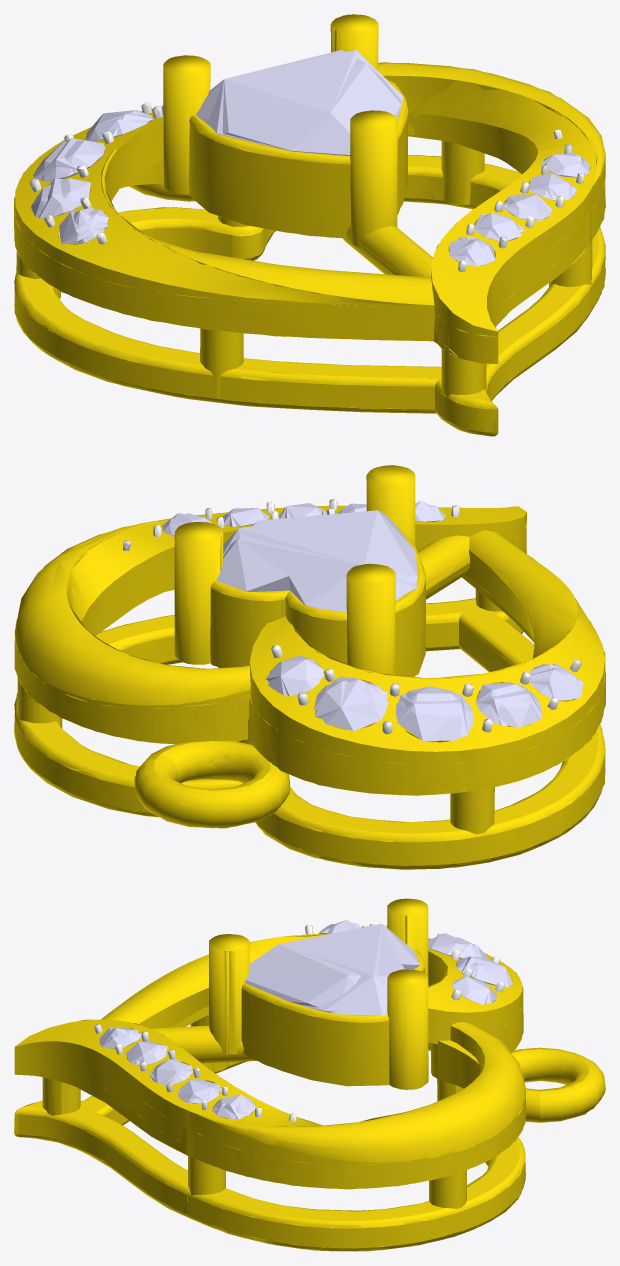
Rendered from DPN-D000612028.glb.
The picture shows the model from 3 angles, top to bottom: view 1: azimuth 30°, elevation 25°; view 2: azimuth 150°, elevation 25°; view 3: azimuth 270°, elevation 25°; orthographic projection. The views are drawn at different scales.
Visible parts, largest first — view 1: highPolyMesh, lowPolyMesh; view 2: highPolyMesh, lowPolyMesh; view 3: highPolyMesh, lowPolyMesh.
Boxes of the visible parts, box(x1,y1,x2,y2) form: highPolyMesh: box(14, 14, 605, 436); lowPolyMesh: box(14, 14, 605, 436); highPolyMesh: box(14, 465, 605, 869); lowPolyMesh: box(14, 465, 605, 869); highPolyMesh: box(14, 898, 605, 1251); lowPolyMesh: box(14, 898, 605, 1251).
Bounding box in the file's own units: 0.0111 × 0.0046 × 0.0125.
